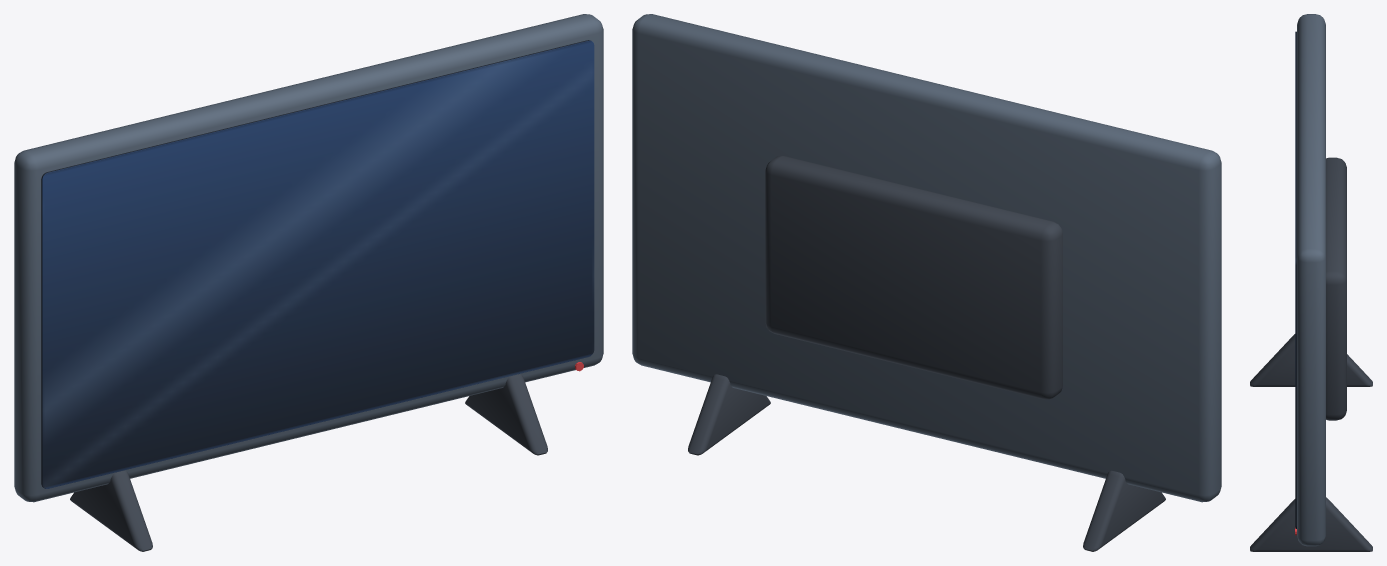
The model's file is tv_tela_plana_100.glb.
The picture shows the model from 3 angles, left to right: view 1: azimuth 30°, elevation 25°; view 2: azimuth 150°, elevation 25°; view 3: azimuth 270°, elevation 25°; orthographic projection. The views are drawn at different scales.
Parts seen in each view (by area): view 1: tv_tela_plana_100; view 2: tv_tela_plana_100; view 3: tv_tela_plana_100.
Boxes of the visible parts, bbox=[...] form: tv_tela_plana_100: bbox=[14, 14, 603, 551]; tv_tela_plana_100: bbox=[632, 14, 1221, 551]; tv_tela_plana_100: bbox=[1250, 14, 1372, 551].
Bounding box in the file's own units: 1 × 0.645 × 0.2142.
Materials: 2 (2 with a texture image).
